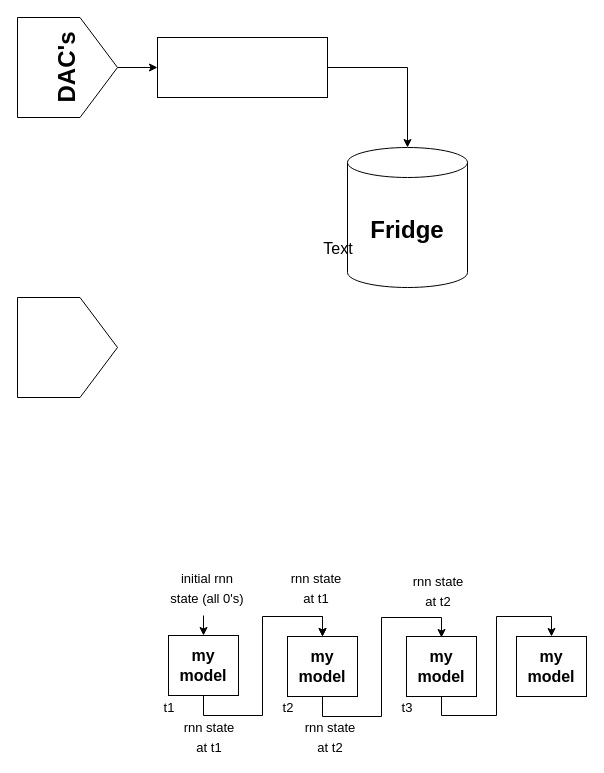
Some shapes in this 604 by 773 pixel diagram are drawn without their labels. Here are the shapes that lost their labels. From the top down, the centre of each, then its label:
At point 242,67: "RF-circuit 1".
At point 67,347: "ADC's".
